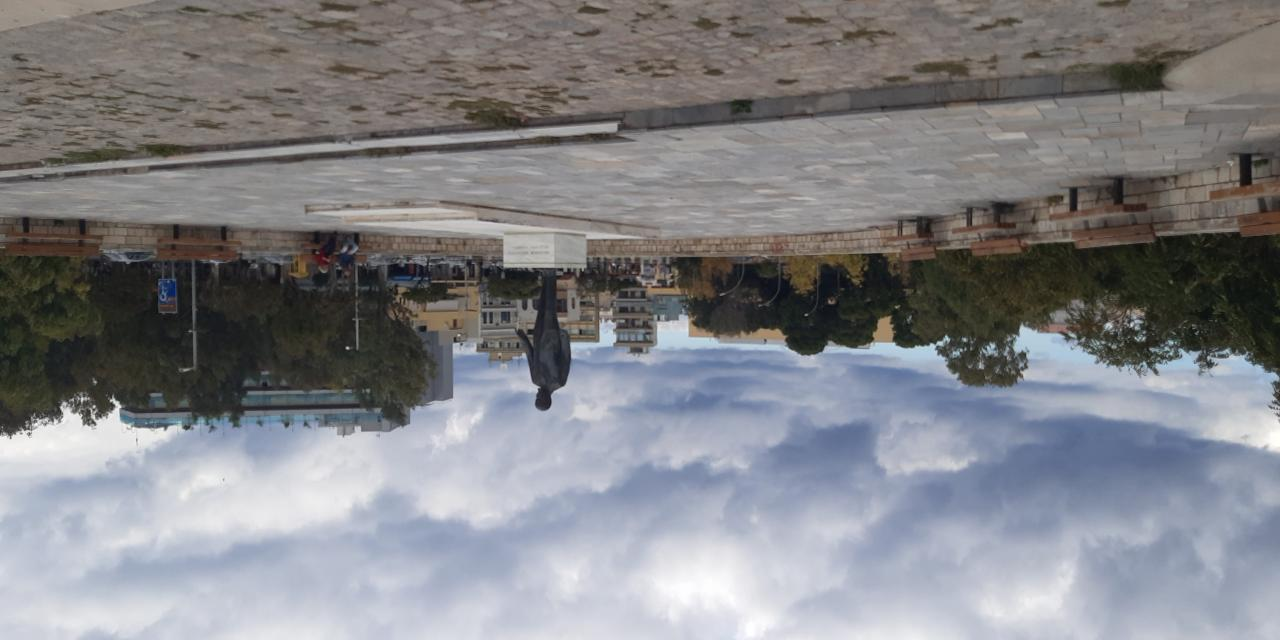Venizelos: (511, 271, 575, 413)
